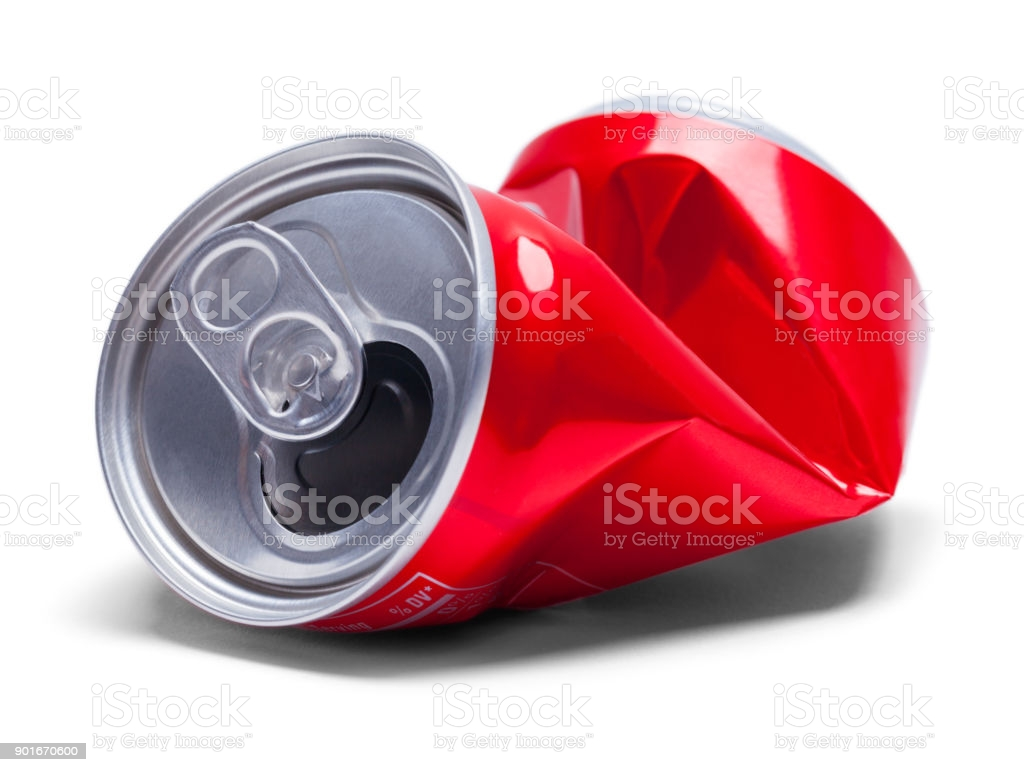can: (92, 92, 930, 639)
